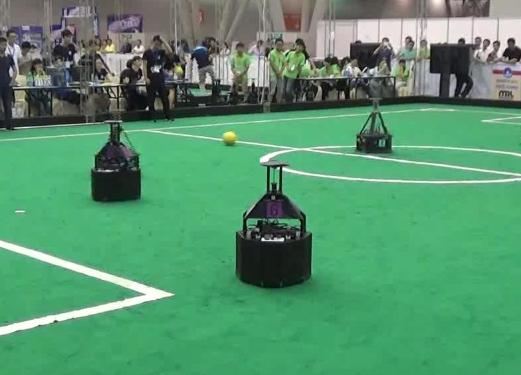robot: (231, 159, 314, 289), (87, 118, 145, 202), (354, 95, 392, 154)
